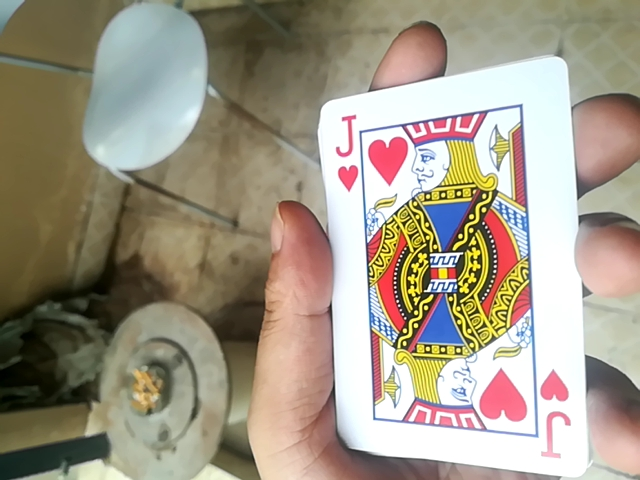hx j: (336, 46, 600, 480)
